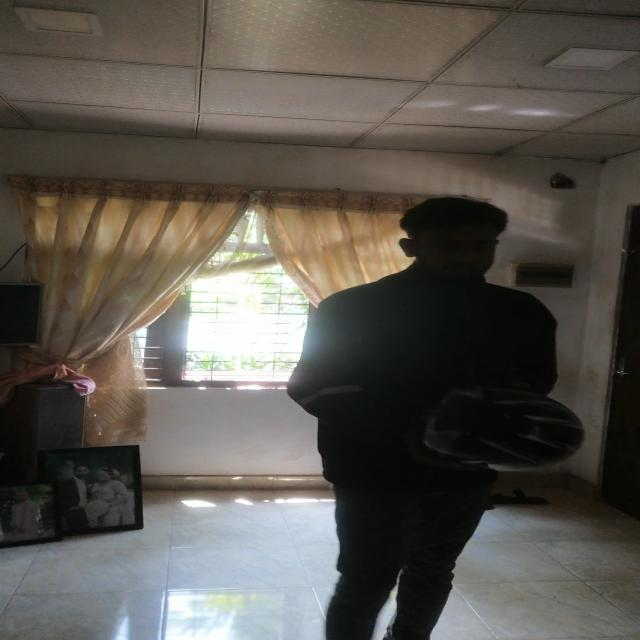Jacket_Wearer: (298, 268, 558, 512)
Person: (300, 198, 552, 640)
